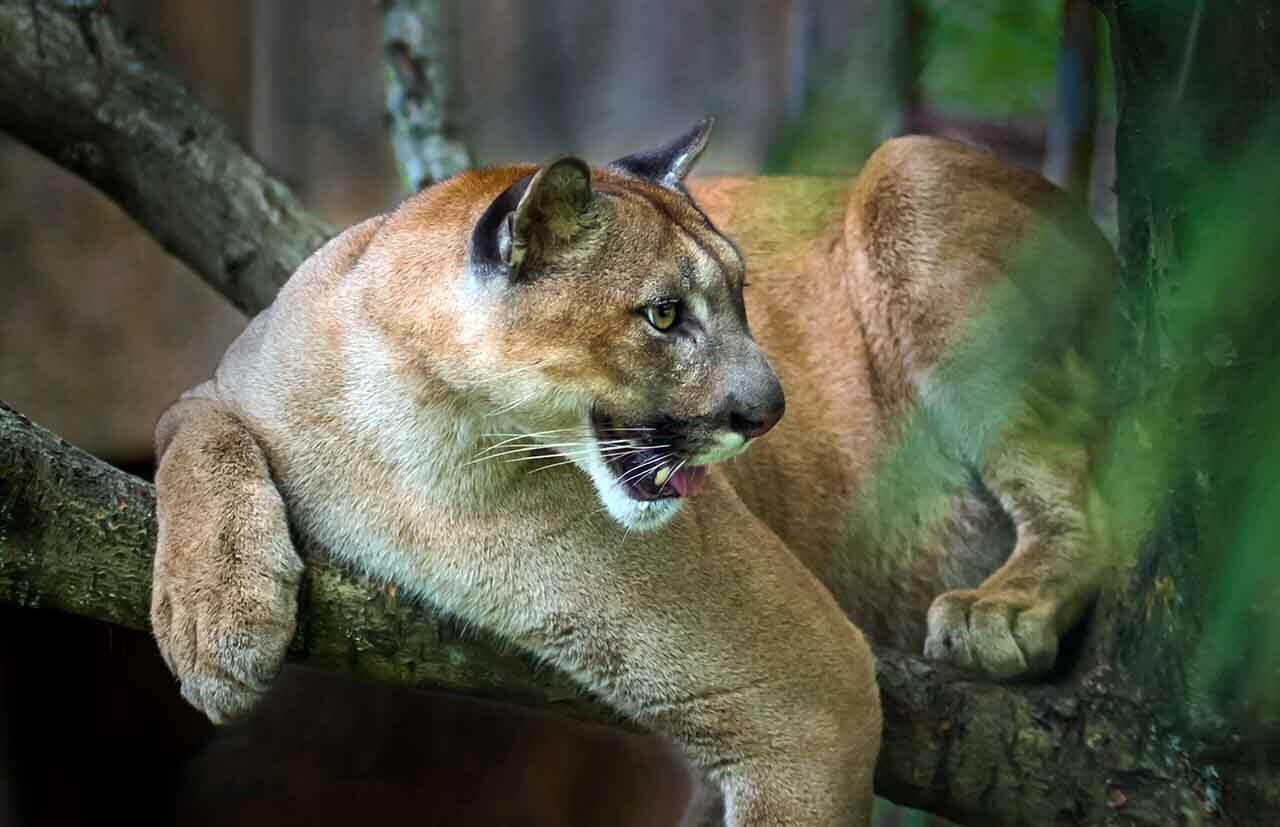OncaParda: (134, 118, 1169, 821)
